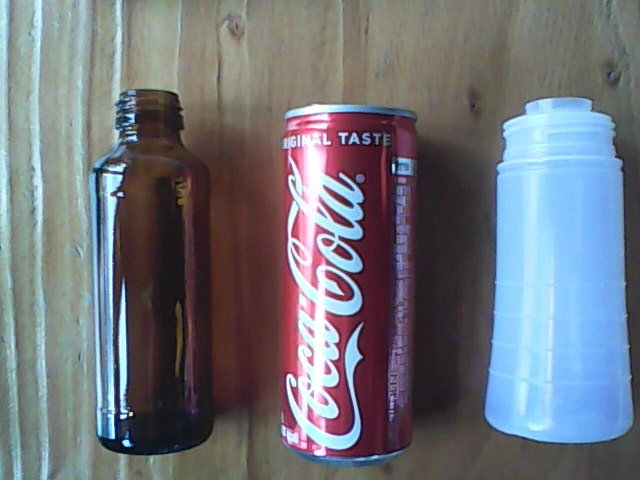Can: (278, 97, 423, 471)
Glass: (87, 85, 218, 460)
Plastic: (477, 94, 638, 452)
